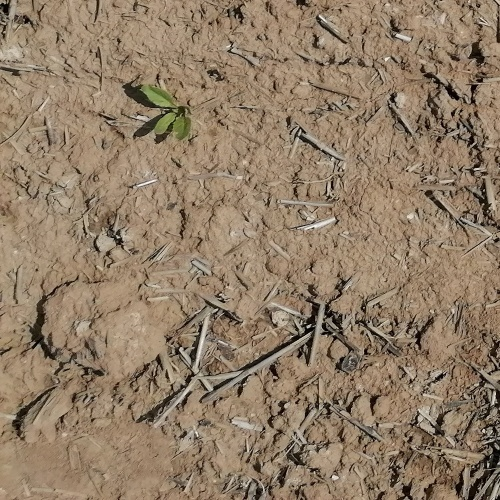beet: (142, 84, 192, 141)
